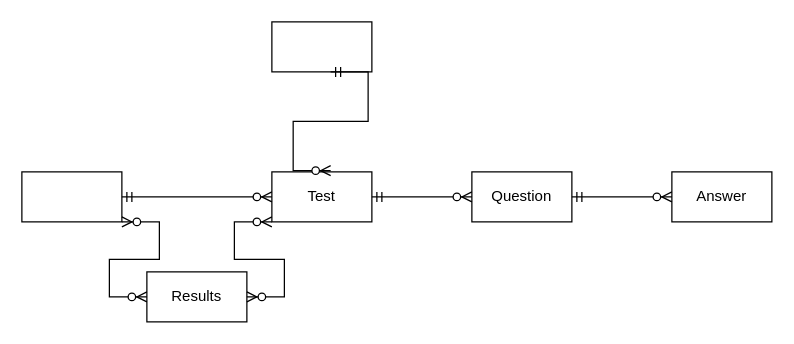
Image size: 794x344. Some labels were removed from this diagram. Each missing label, with the centre of its shape:
Category: the point at 321,46
User: the point at 71,196
